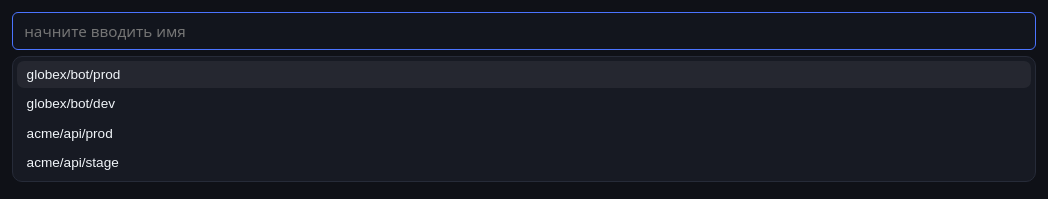
Test case: PickInput › выбирает стрелками и Enter
Type "api" into the dropdown at (524, 31), box [12,12,1036,50]
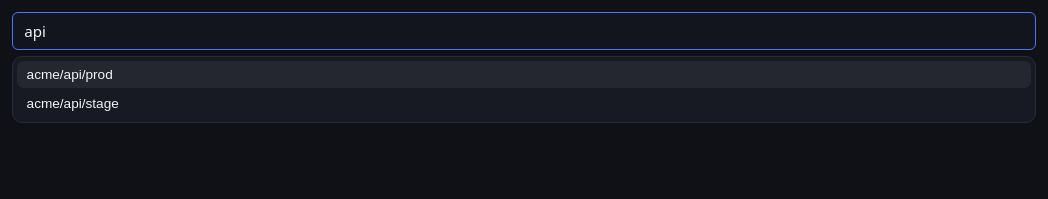
Press ArrowDown in the dropdown, box [12,12,1036,50]
Press Enter in the dropdown, box [12,12,1036,50]
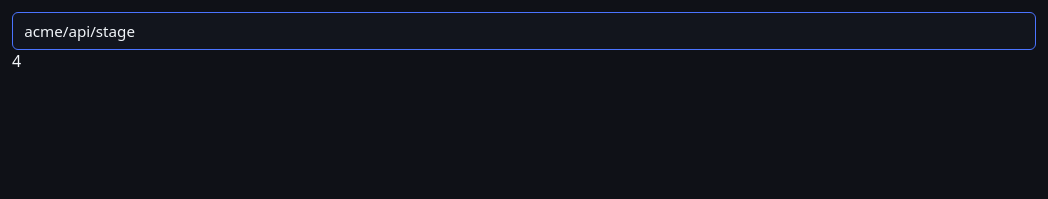
Expected: the text with test id "chosen" reads "4", [12,50,21,72]
